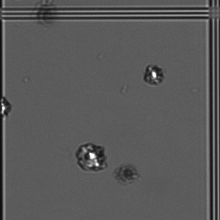Dead Cell: (32, 1, 67, 35), (115, 161, 143, 189)
Living Cell: (72, 137, 113, 178), (139, 60, 171, 92), (1, 93, 14, 121)
